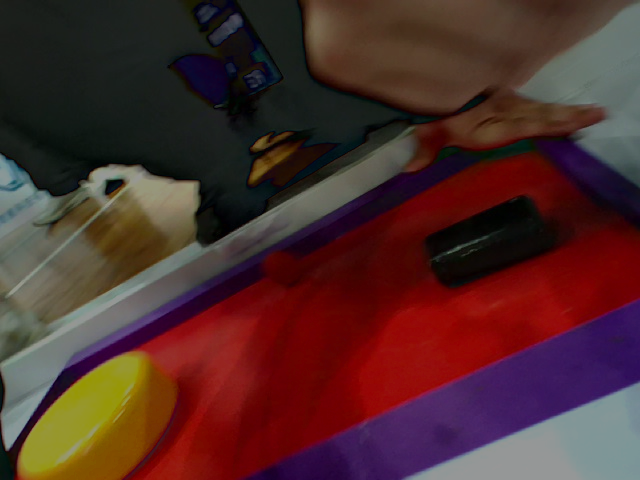black: (20, 351, 186, 476), (424, 202, 556, 280)
kuang: (11, 123, 640, 480)
red: (263, 249, 308, 286)
